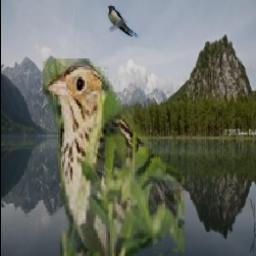Sparrow: (44, 60, 186, 256)
Swallow: (108, 6, 140, 39)
